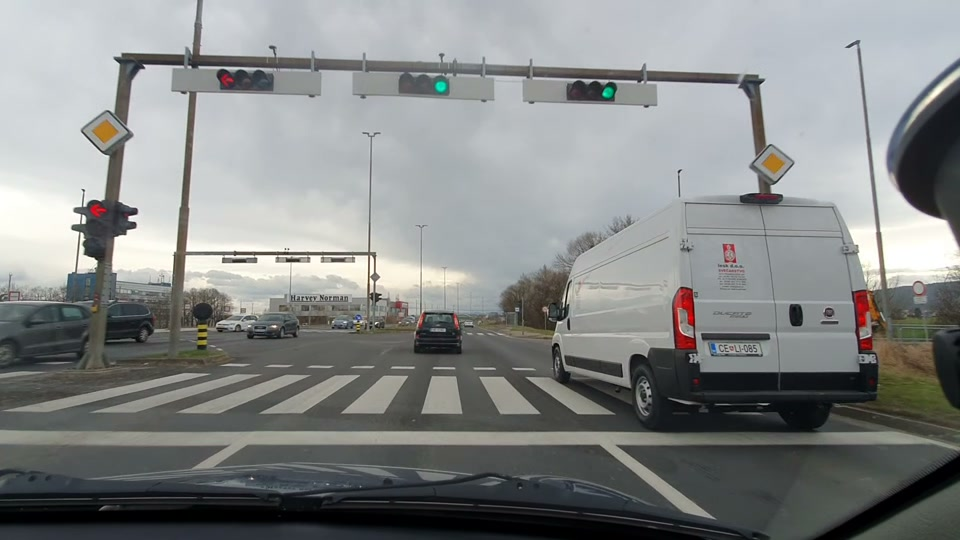vehicle_ign: (543, 191, 890, 442), (0, 290, 88, 369), (82, 296, 151, 351), (410, 305, 463, 363)
vehicle_s: (245, 311, 302, 344)
